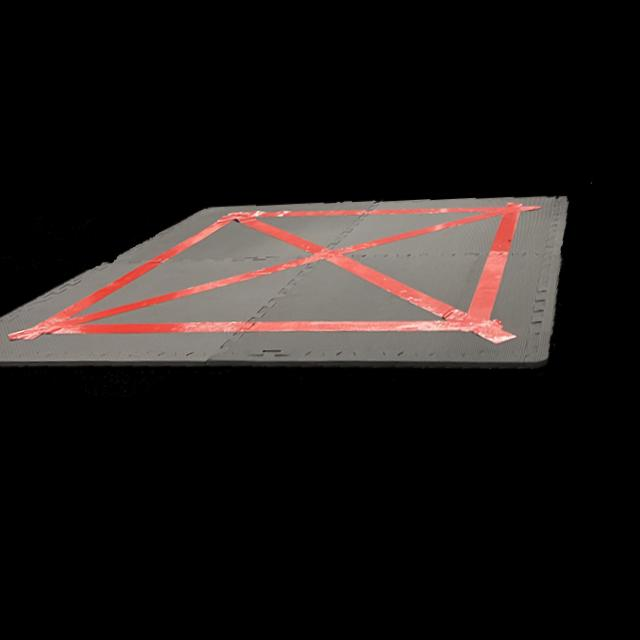landingPads: (0, 197, 596, 397)
